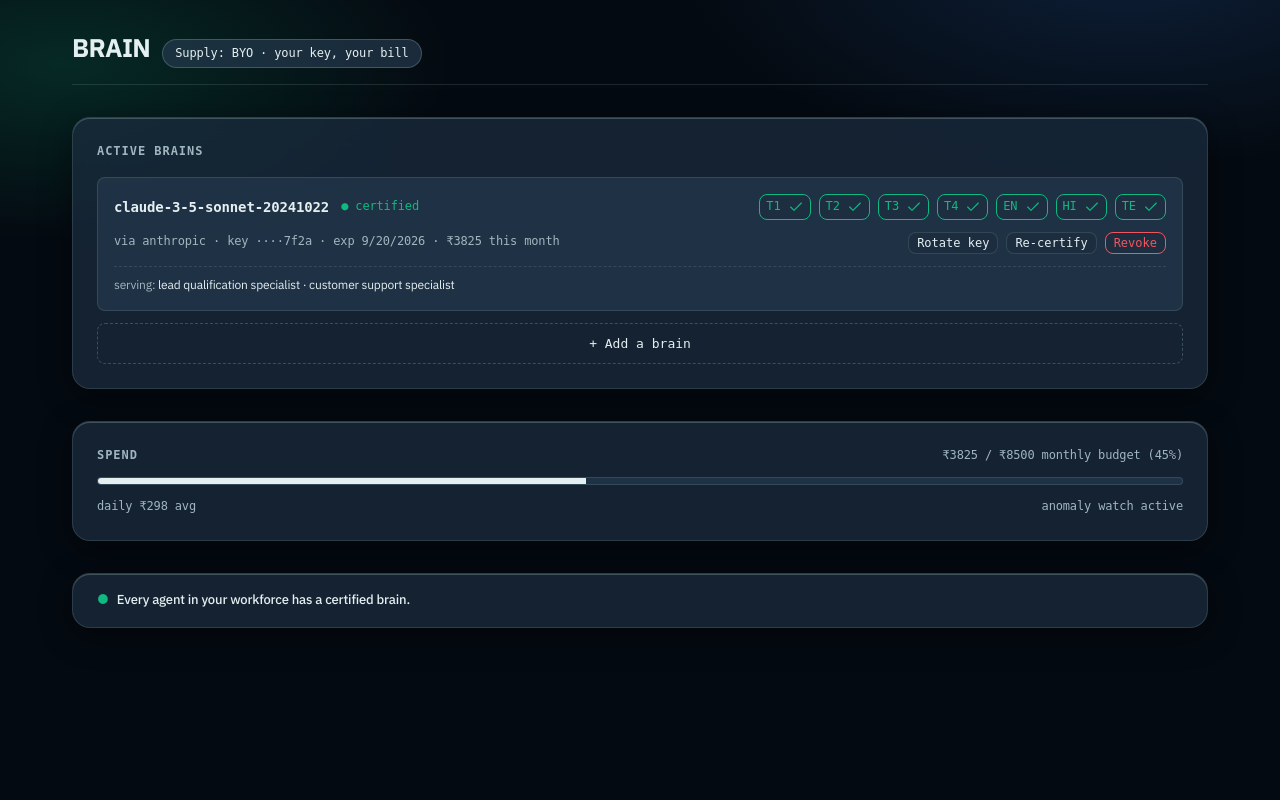
Test: BrainConsole Component (§18.6) › handles Add Brain wizard flow end-to-end
The width and height of the screenshot is (1280, 800).
Note: Click Add Brain
Click the button with test id "add-brain-btn" at (640, 343), box [97,323,1183,364]
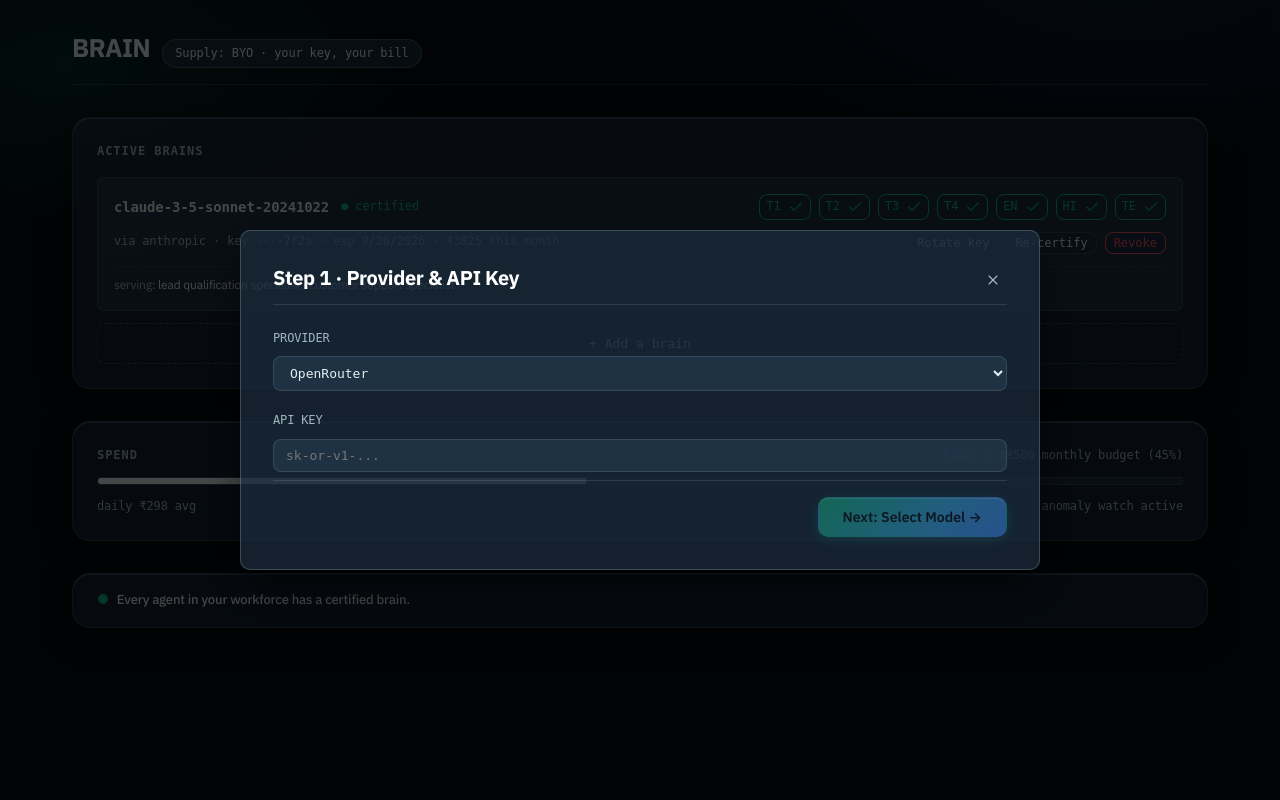
Expected: the element with test id "add-brain-modal" is shown, [240,230,1040,570]
Expected: the heading "Step 1 · Provider & API Key" is shown, [273,265,519,290]
Note: Enter key and blur
Type "sk-ant-test-live-key-7f2a" into the password field with test id "api-key-input" at (640, 455), box [273,439,1007,472]
Leave the password field with test id "api-key-input", box [273,439,1007,472]
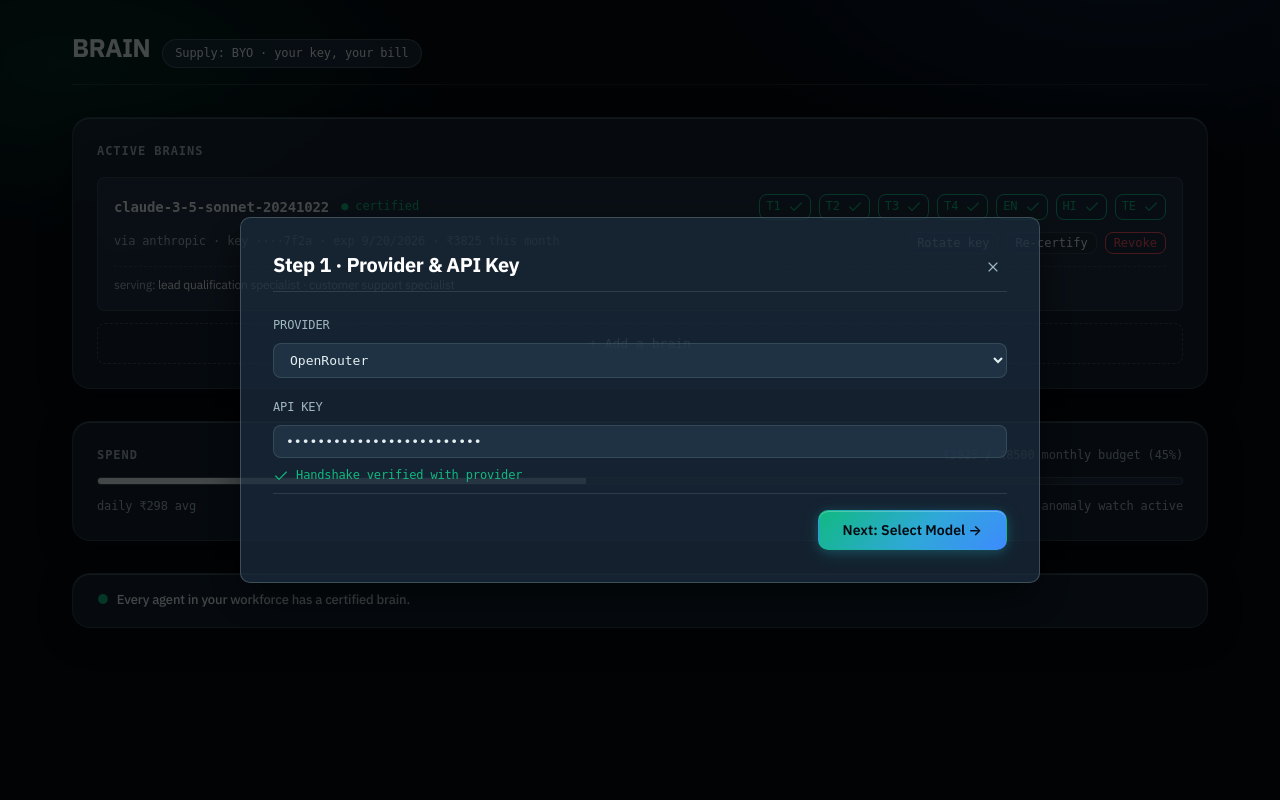
Expected: the element with test id "key-valid-badge" is shown, [273,468,522,484]
Note: Click Next to go to Step 2
Click the button with test id "step1-next-btn" at (912, 530), box [818,510,1007,550]
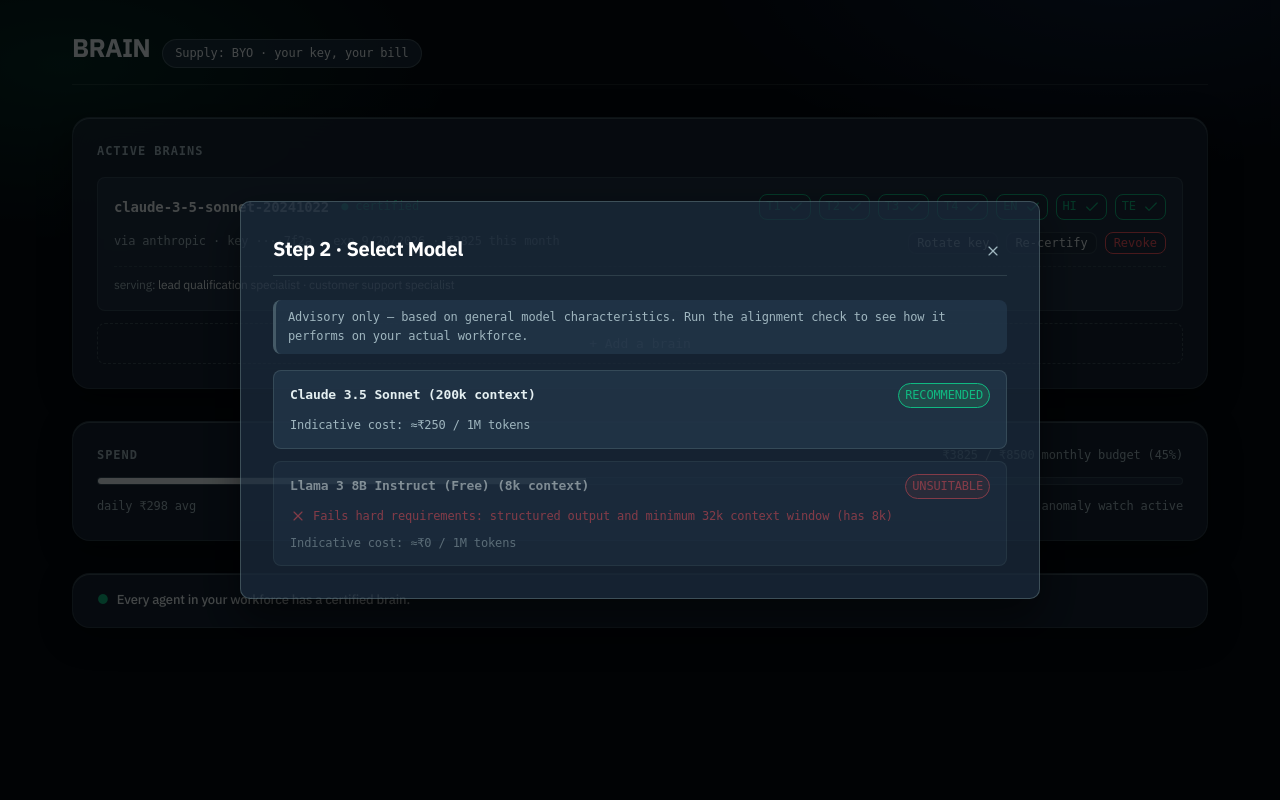
Expected: the heading "Step 2 · Select Model" is shown, [273,236,463,261]
Expected: the text with test id "advisory-banner" is shown, [273,300,1007,354]
Expected: the text "RECOMMENDED" is shown, [898,383,990,408]
Note: Click recommended model to go to Step 3
Click the element with test id "catalogue-card-claude-3-5-sonnet-20241022" at (640, 409), box [273,370,1007,449]
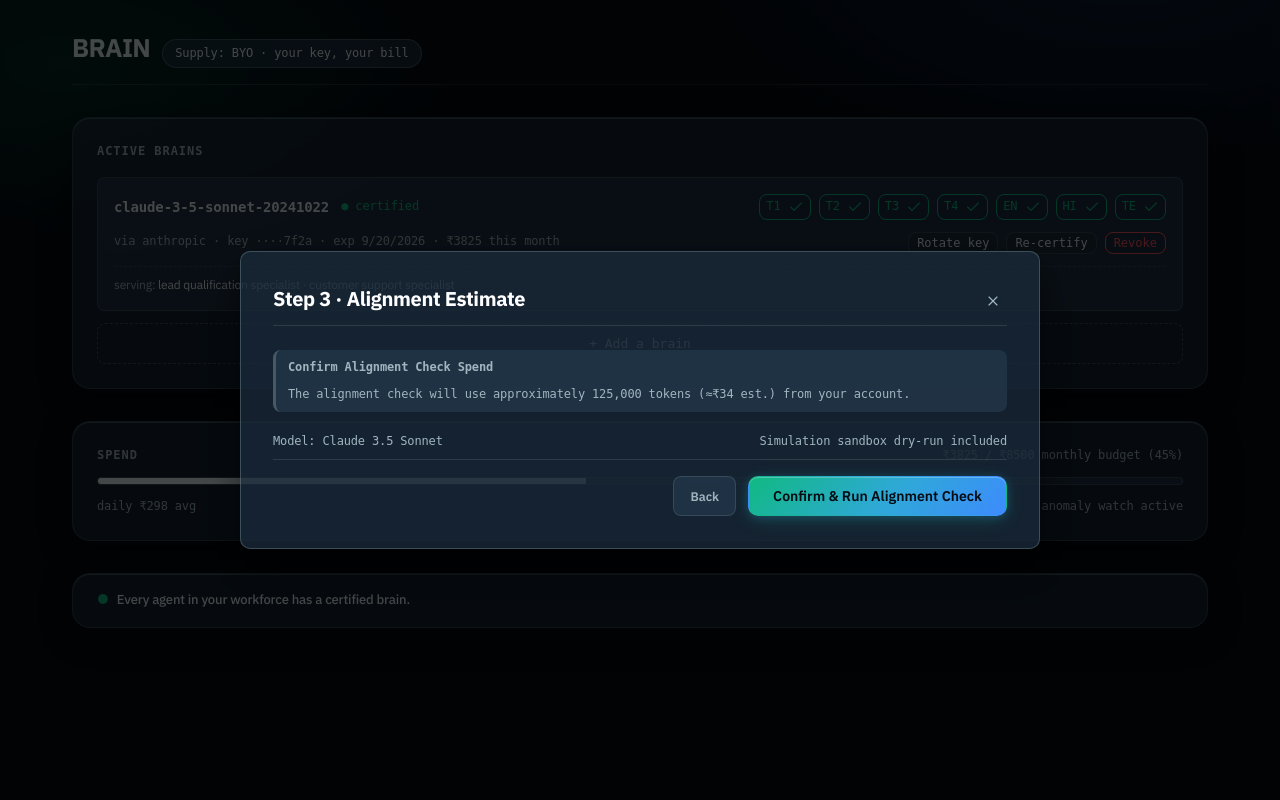
Expected: the heading "Step 3 · Alignment Estimate" is shown, [273,286,525,311]
Expected: the element with test id "estimate-disclosure-box" shows "≈₹34 est.", [288,387,910,401]
Note: Click Confirm & Run
Click the button with test id "confirm-run-check-btn" at (878, 496), box [748,476,1007,516]
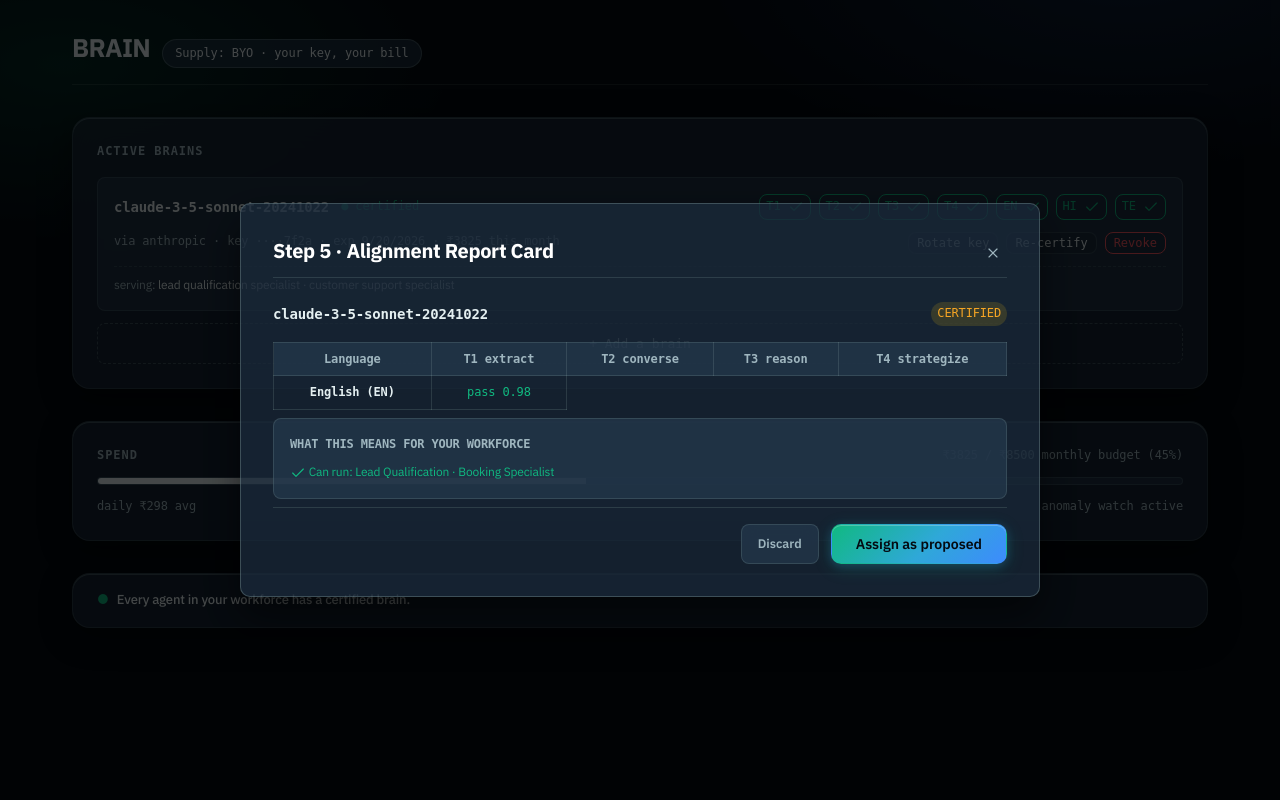
Expected: the element with test id "report-card-view" is shown, [273,302,1007,564]
Expected: the table with test id "tier-language-matrix" is shown, [273,342,1007,410]
Expected: the element with test id "workforce-impact-box" shows "Lead Qualification", [355,464,554,479]
Note: Assign as proposed
Click the button with test id "assign-proposed-btn" at (919, 544), box [831,524,1007,564]
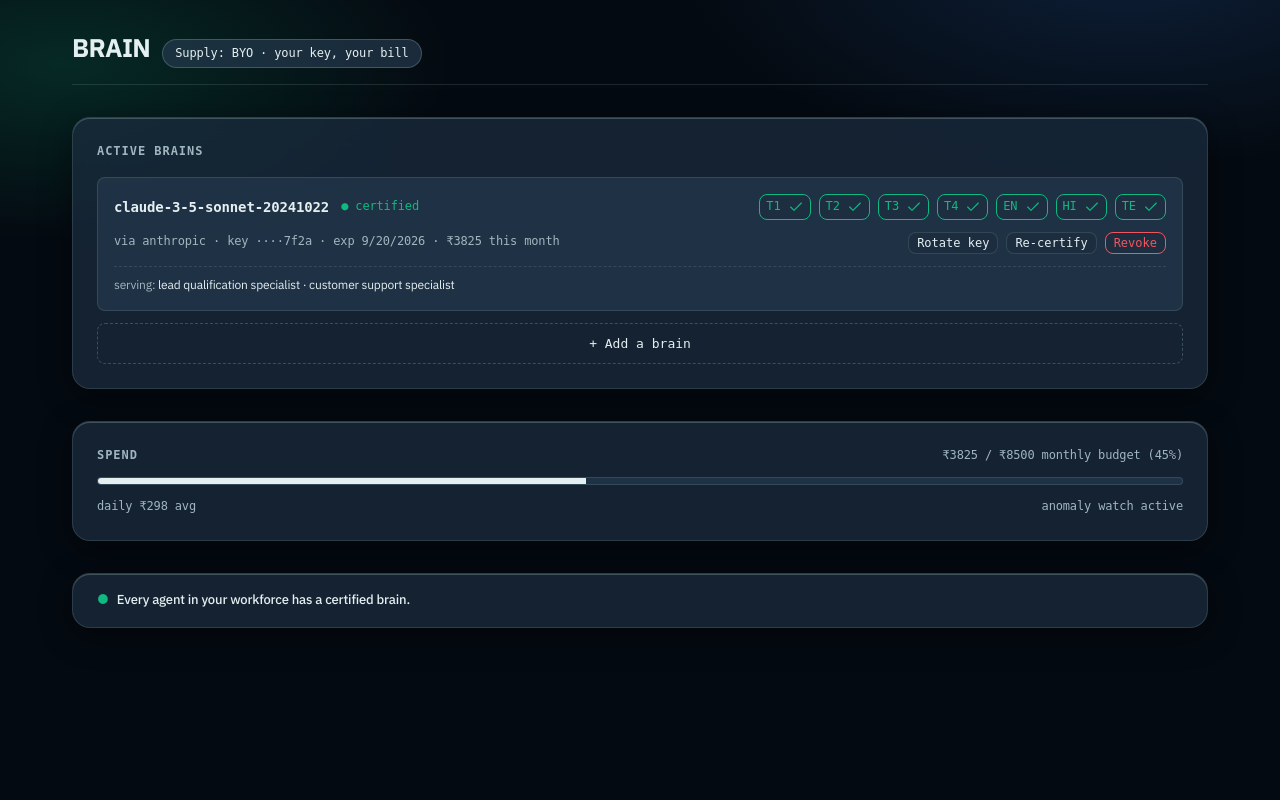
Expected: the element with test id "add-brain-modal" is gone
